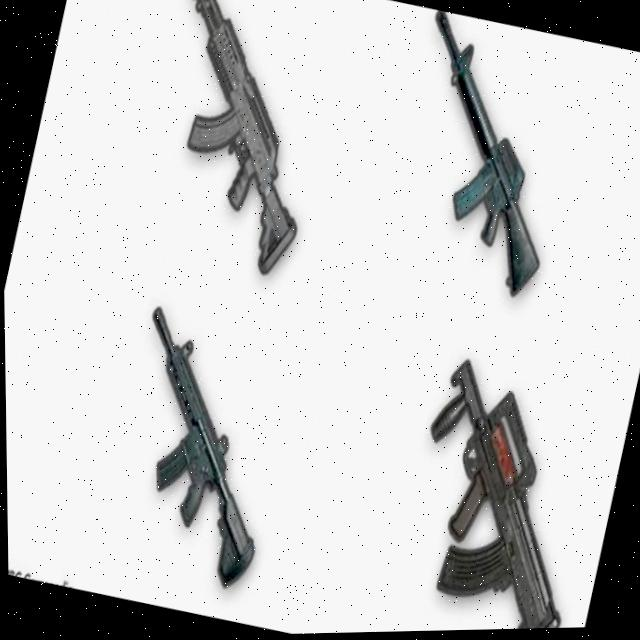firearm: (375, 351, 612, 634), (121, 0, 351, 284), (373, 8, 591, 306), (92, 299, 302, 596)
